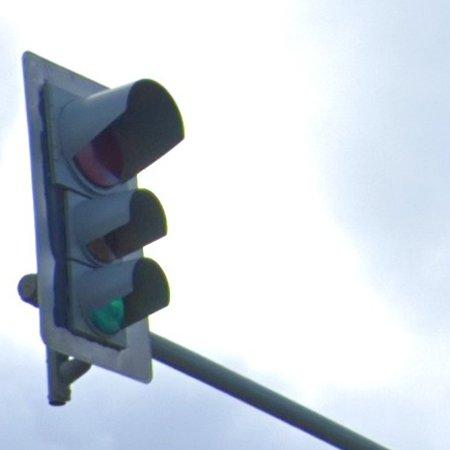traffic lights: (20, 52, 387, 450)
